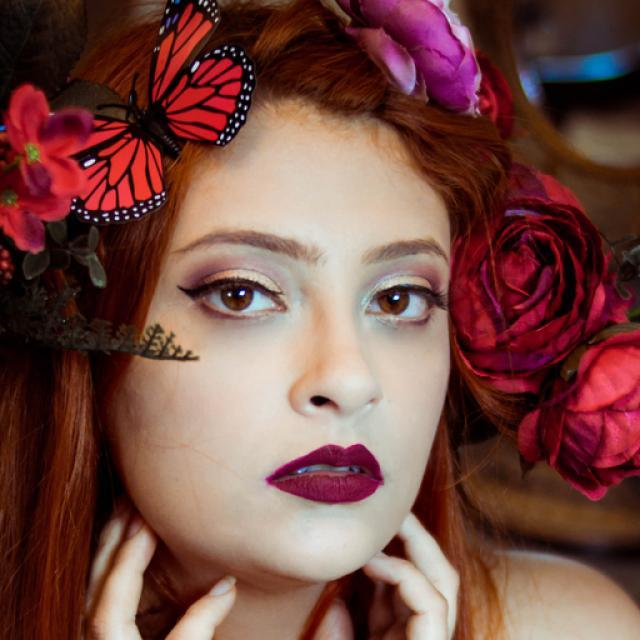neutral: (104, 91, 456, 586)
